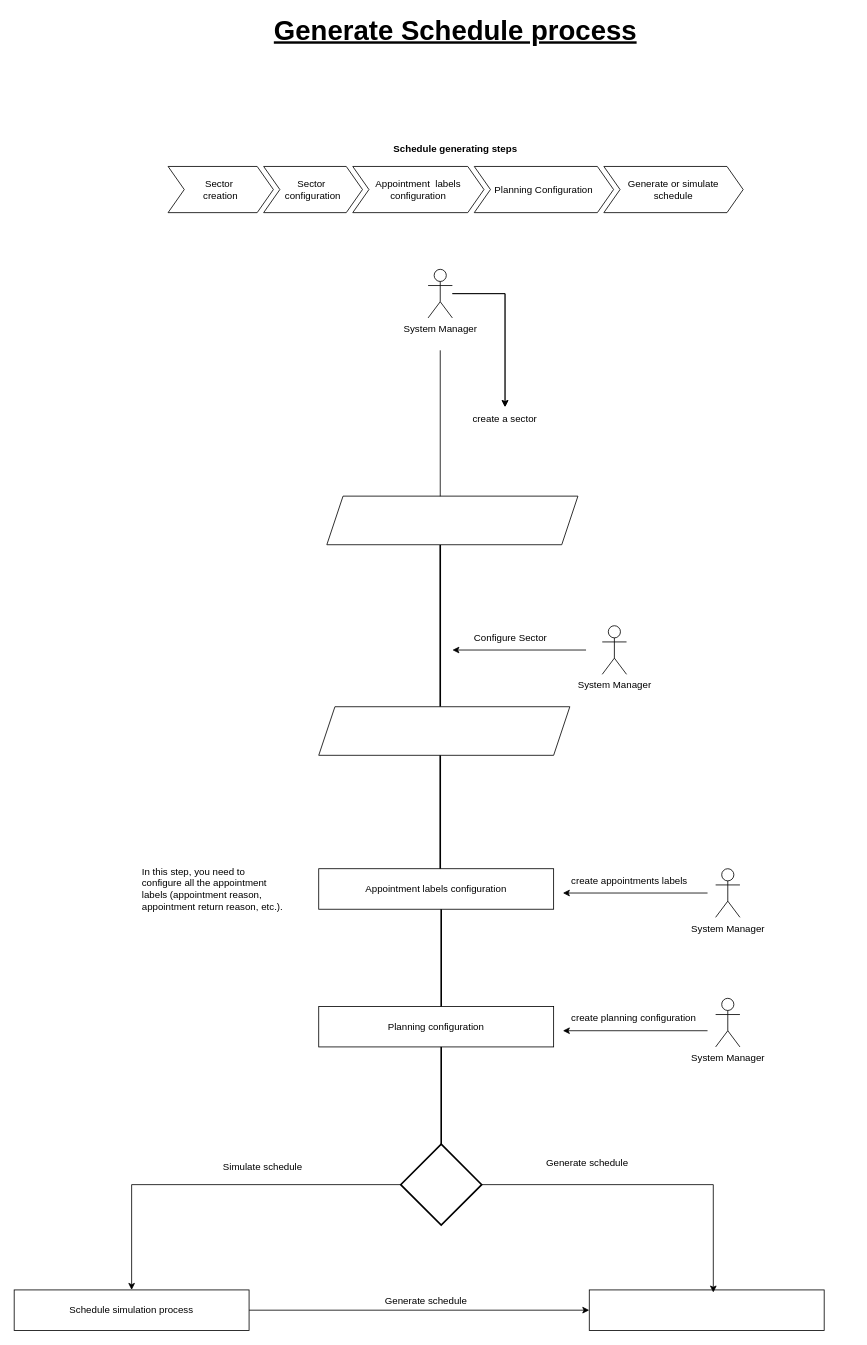
Image size: 867x1345. Some labels were removed from this diagram. Each missing label, with the box of its shape:
Schedule generating process: (588, 1289, 824, 1330)
sector configured: (318, 706, 570, 755)
sector created: (326, 495, 578, 545)
